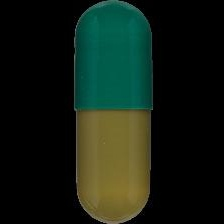69189-0758: (0, 0, 224, 224)
